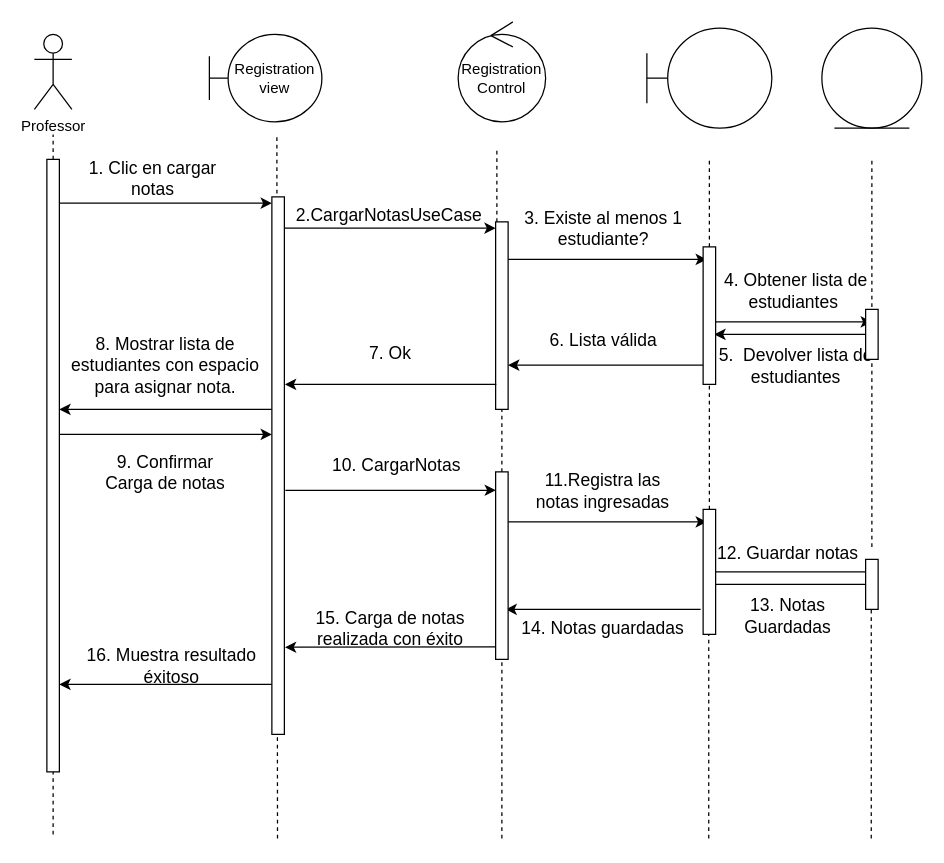
Image size: 944x863. Some labels were removed from this diagram. Here are the shapes that lost their labels. From the top down, the centre of each, then its label:
the point at 709,77: InMemoryStudent
the point at 871,77: Student
